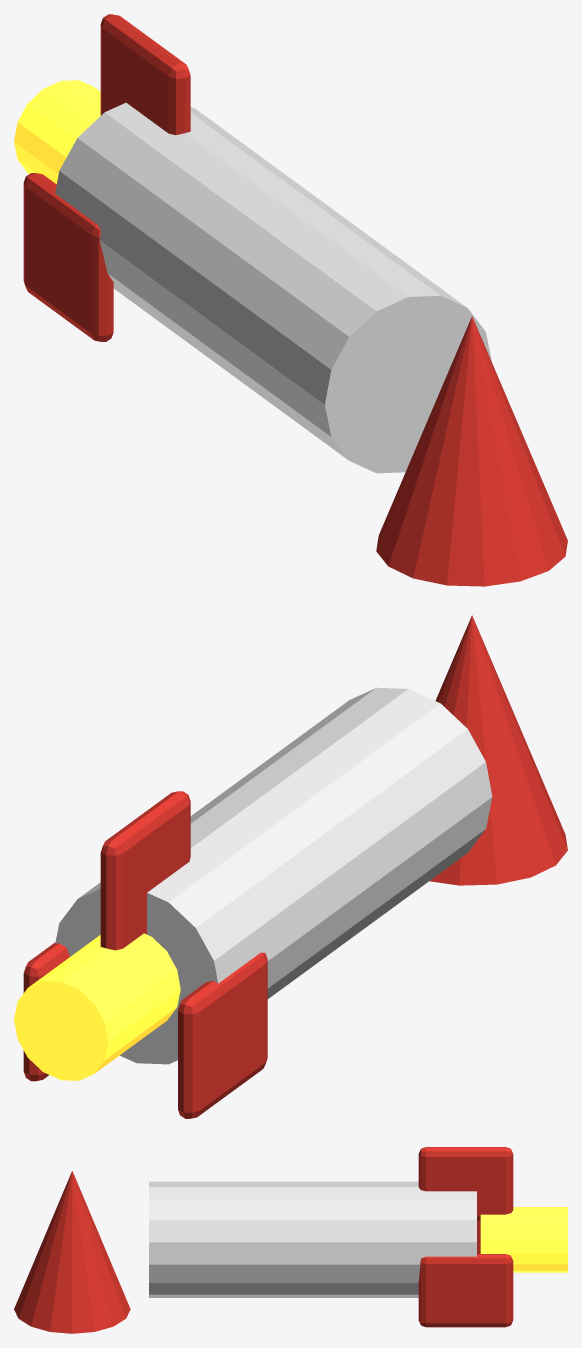
Rendered from missile.glb.
The picture shows the model from 3 angles, top to bottom: view 1: azimuth 30°, elevation 25°; view 2: azimuth 150°, elevation 25°; view 3: azimuth 270°, elevation 25°; orthographic projection. The views are drawn at different scales.
Parts seen in each view (by area): view 1: Body, Nose, Fin2, Fin0, Jet; view 2: Body, Jet, Nose, Fin2, Fin0, Fin1; view 3: Body, Nose, Fin1, Fin0, Jet.
Part boxes in pixels (left/top/right/bottom): Body: left=55, top=102, right=491, bottom=473; Nose: left=376, top=316, right=567, bottom=586; Fin2: left=23, top=173, right=113, bottom=341; Fin0: left=100, top=14, right=190, bottom=135; Jet: left=14, top=80, right=100, bottom=184; Body: left=55, top=687, right=492, bottom=1064; Jet: left=14, top=933, right=180, bottom=1080; Nose: left=429, top=615, right=567, bottom=885; Fin2: left=178, top=952, right=267, bottom=1118; Fin0: left=100, top=791, right=190, bottom=950; Fin1: left=23, top=942, right=69, bottom=1081; Body: left=149, top=1181, right=476, bottom=1297; Nose: left=14, top=1171, right=130, bottom=1333; Fin1: left=418, top=1254, right=513, bottom=1327; Fin0: left=418, top=1147, right=513, bottom=1220; Jet: left=480, top=1207, right=567, bottom=1272.
Bounding box in the file's own units: 0.3344 × 0.49 × 1.52.
